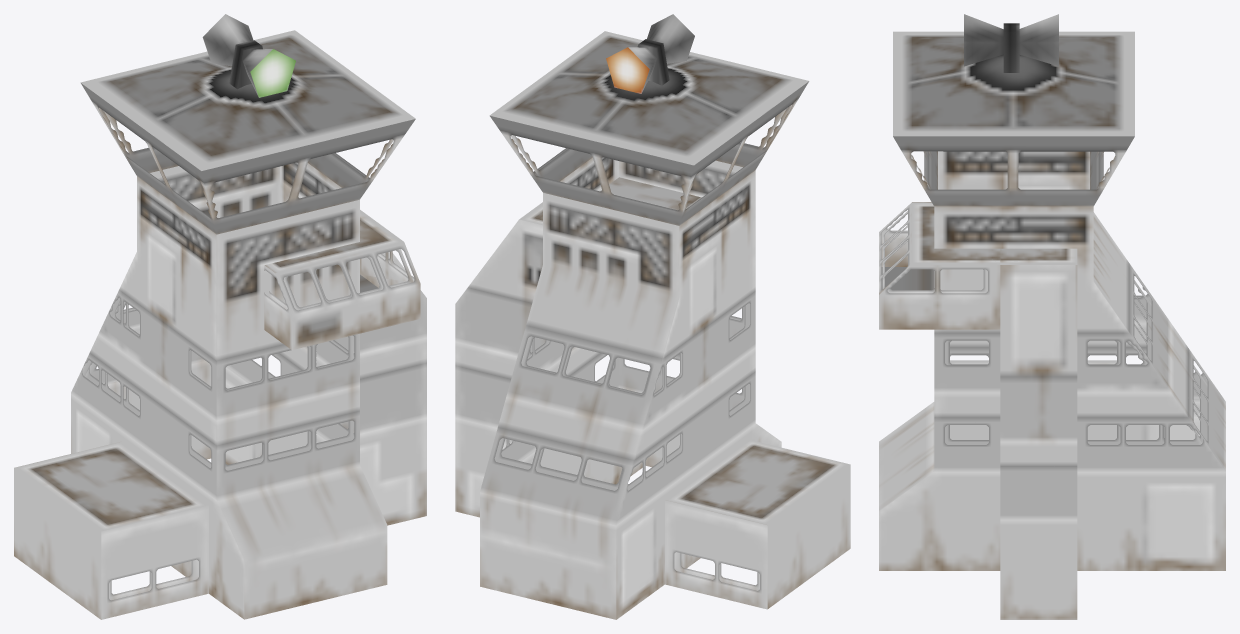
The model's file is trafcon.glb.
3 views of the same model, side by side, from view 1: azimuth 30°, elevation 25°; view 2: azimuth 150°, elevation 25°; view 3: azimuth 270°, elevation 25° (orthographic). The views are drawn at different scales.
Visible parts, largest first — view 1: TrafconMain, LitWin_TrafCon, RotatyBit; view 2: TrafconMain, LitWin_TrafCon, RotatyBit; view 3: TrafconMain, LitWin_TrafCon, RotatyBit.
Boxes of the visible parts, <box> form: TrafconMain: <box>14,30,426,619</box>; LitWin_TrafCon: <box>85,111,413,600</box>; RotatyBit: <box>202,14,295,97</box>; TrafconMain: <box>455,31,850,619</box>; LitWin_TrafCon: <box>494,108,786,590</box>; RotatyBit: <box>606,14,694,93</box>; TrafconMain: <box>879,31,1225,619</box>; LitWin_TrafCon: <box>882,151,1207,444</box>; RotatyBit: <box>964,14,1058,72</box>.
Bounding box in the file's own units: 23.25 × 33.08 × 19.91.
Materials: 1 (1 with a texture image).
